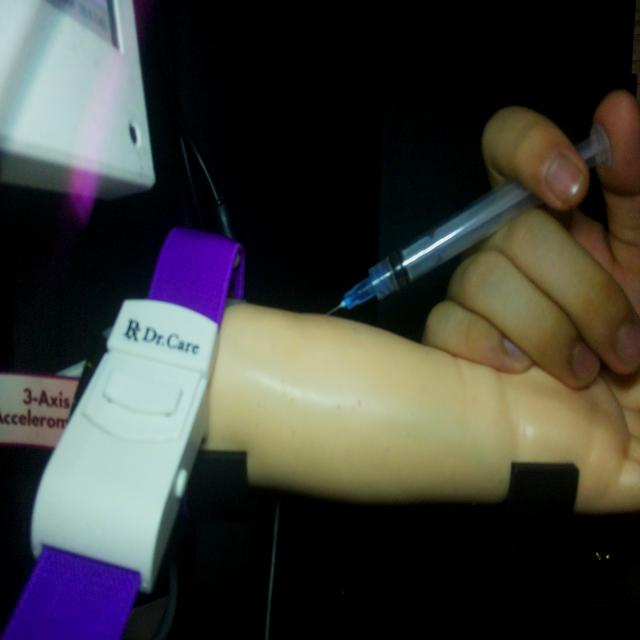26 degrees: (324, 120, 613, 318)
